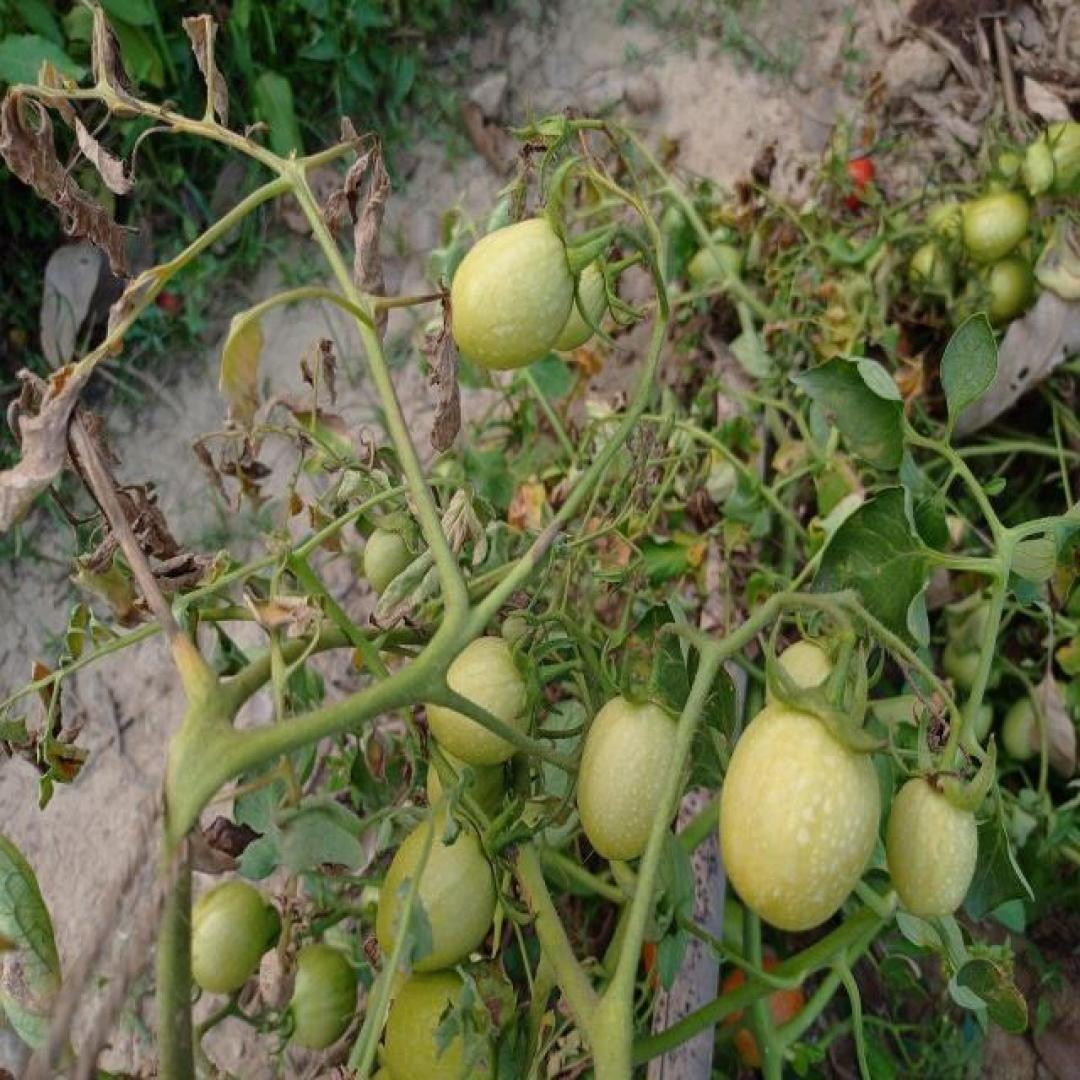mentah: (717, 692, 883, 931), (371, 807, 500, 977), (446, 216, 577, 375), (574, 686, 688, 860), (422, 631, 540, 768), (881, 766, 979, 923), (179, 879, 270, 996), (361, 516, 422, 596)
